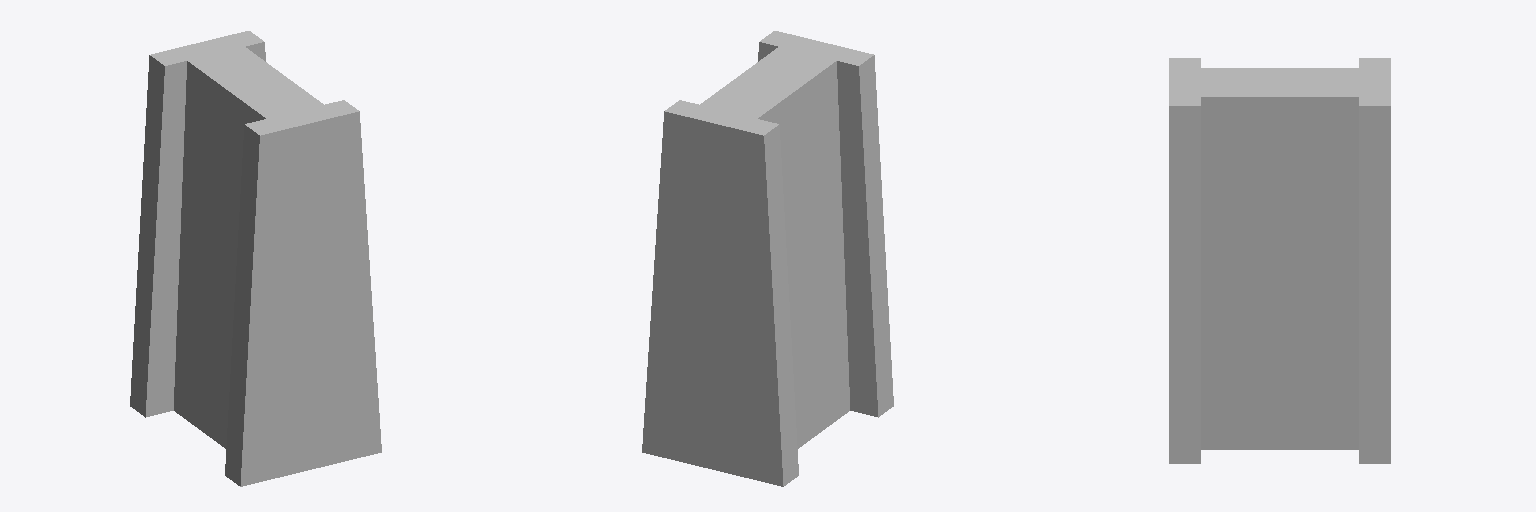
Rendered from walls.obj.
3 renders of one model, left to right at view 1: azimuth 30°, elevation 25°; view 2: azimuth 150°, elevation 25°; view 3: azimuth 270°, elevation 25°, orthographic.
Visible parts, largest first — view 1: Cube.001, Cube, Cube.002_Cube.003; view 2: Cube.002_Cube.003, Cube, Cube.001; view 3: Cube, Cube.001, Cube.002_Cube.003.
Boxes of the visible parts, x1=… form: Cube.001: x1=225, y1=100, x2=381, y2=486; Cube: x1=174, y1=47, x2=323, y2=448; Cube.002_Cube.003: x1=130, y1=31, x2=265, y2=417; Cube.002_Cube.003: x1=642, y1=100, x2=798, y2=486; Cube: x1=700, y1=46, x2=849, y2=448; Cube.001: x1=758, y1=31, x2=893, y2=417; Cube: x1=1200, y1=68, x2=1359, y2=449; Cube.001: x1=1169, y1=58, x2=1200, y2=463; Cube.002_Cube.003: x1=1359, y1=58, x2=1390, y2=463.
Size of the model in its own units: 4.9 by 11.47 by 6.63.